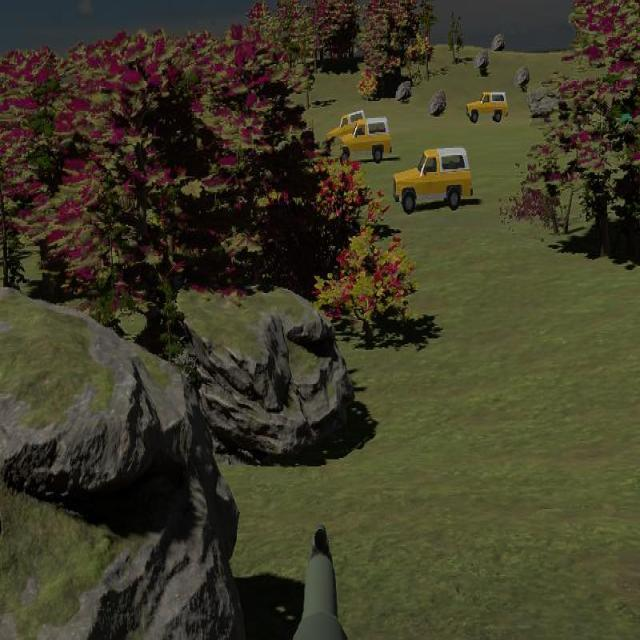car: (393, 146, 473, 215), (334, 118, 392, 163), (326, 109, 367, 147), (466, 90, 507, 124)
